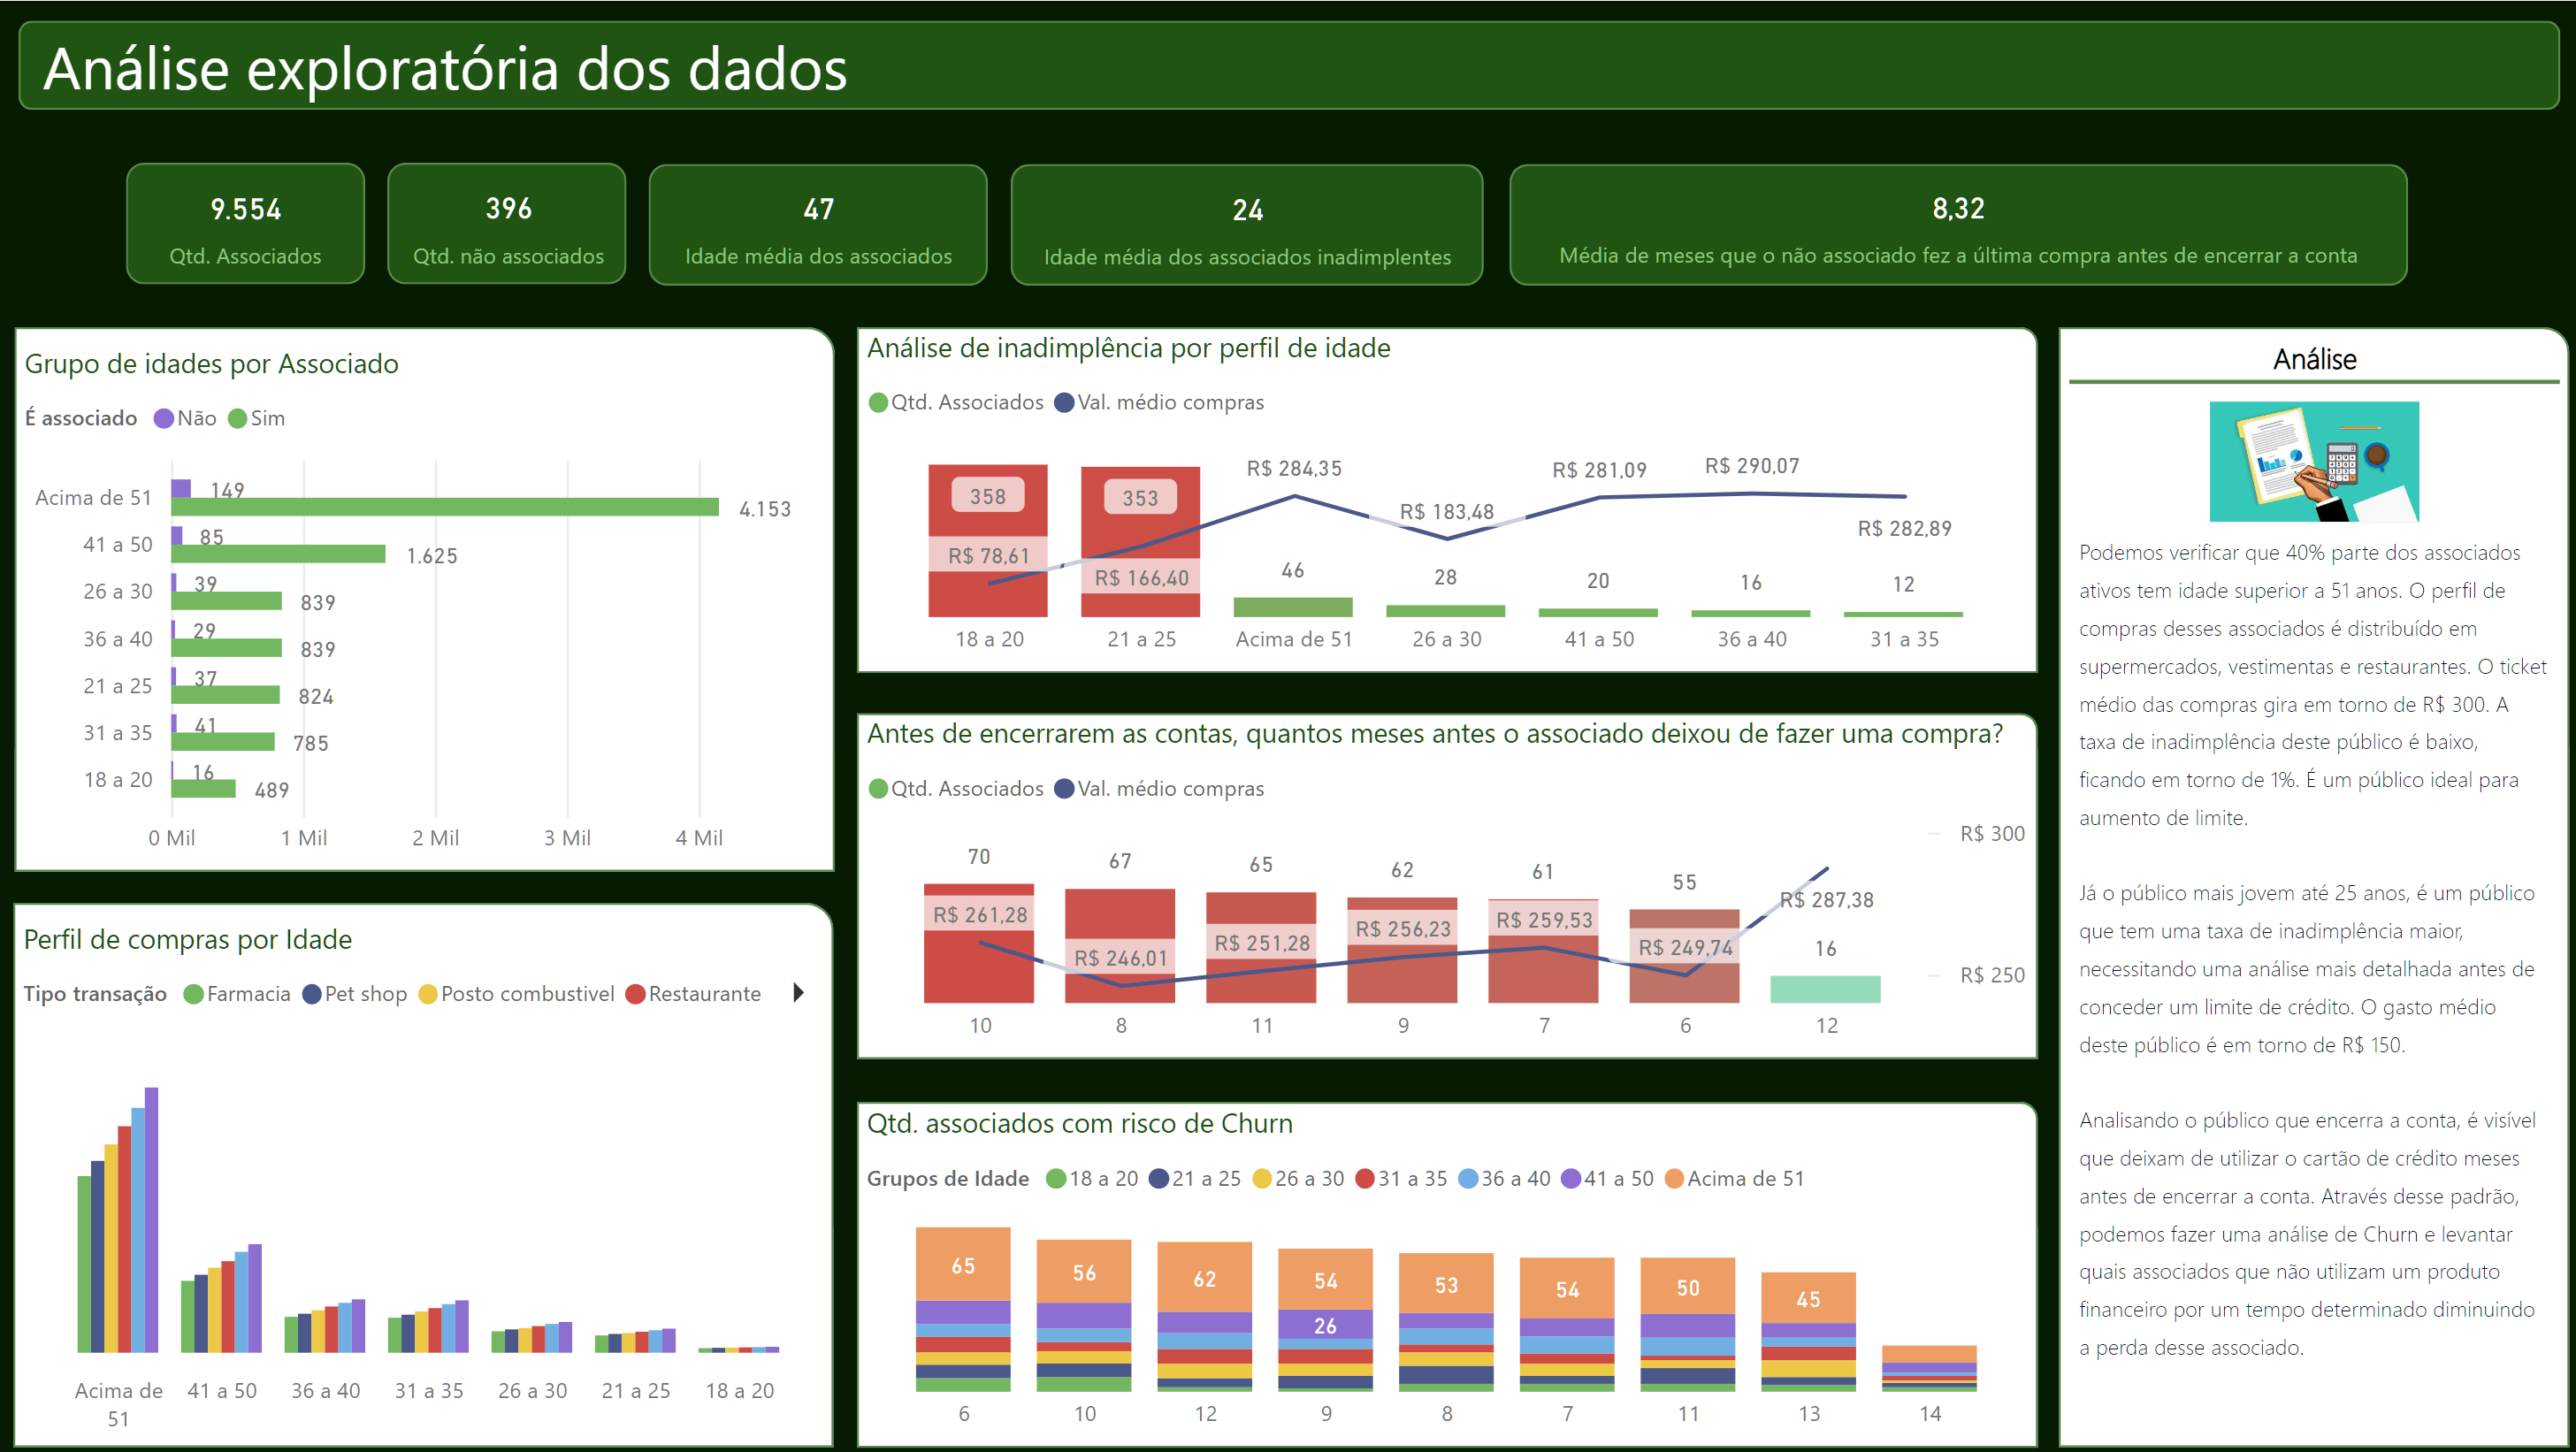

This screenshot's page, from the dashboard's own definition file:
{"tool":"powerbi","page":{"name":"Geral","canvas":[1280,720],"ordinal":0},"visuals":[{"type":"shape","box":[426.3,543.2,582.4,170.8],"z":0},{"type":"shape","box":[426.3,351.4,582.4,170.8],"z":1000},{"type":"shape","box":[426.3,161,582.4,170.8],"z":2000},{"type":"shape","box":[10.3,445.2,404.4,269],"z":3000},{"type":"shape","box":[10.9,161.2,404.4,269],"z":4000},{"type":"shape","box":[748.8,80.3,443,60.2],"z":5000},{"type":"shape","box":[502.8,80.3,233.6,60.2],"z":6000},{"type":"shape","box":[323.9,80.3,167.5,60.2],"z":7000},{"type":"shape","box":[66.1,79.6,117.8,60.2],"z":8000},{"type":"clusteredBarChart","title":"Grupo de idades por Associado","fields":{"Category":["associado_compras_fatura_inad.Idade (grupos)"],"Y":["associado_compras_fatura_inad.Qtd. Associados"],"Series":["associado_compras_fatura_inad.É associado"]},"box":[10.9,169.1,404.4,261.1],"z":9000},{"type":"card","fields":{"Values":["associado_compras_fatura_inad.Qtd. Associados"]},"box":[66.3,80.3,117.8,60.2],"z":10000},{"type":"card","fields":{"Values":["associado_compras_fatura_inad.Idade média"]},"box":[324.1,80.3,167.5,60.2],"z":11000},{"type":"clusteredColumnChart","title":"Perfil de compras por Idade","fields":{"Category":["associado_comportamento_compras.Grupos de Idade"],"Series":["associado_comportamento_compras.Tipo transação"],"Y":["Sum(associado_comportamento_compras.Val. total de compras)"]},"box":[10.3,453.1,404.4,261.1],"z":12000},{"type":"lineStackedColumnComboChart","title":"Análise de inadimplência por perfil de idade","fields":{"Category":["associado_compras_fatura_inad.Grupos de Idade"],"Y":["associado_compras_fatura_inad.Qtd. Associados"],"Y2":["Avg(associado_compras_fatura_inad.Val. médio compras)"]},"box":[426.3,161,582.4,170.8],"z":13000},{"type":"card","fields":{"Values":["associado_compras_fatura_inad.Idade média"]},"box":[502.8,80.9,233.6,59.6],"z":14000},{"type":"lineStackedColumnComboChart","title":"Antes de encerrarem as contas, quantos meses antes o associado deixou de fazer uma compra?","fields":{"Category":["associado_compras_fatura_inad.Qtd. meses que fez a última compra"],"Y":["associado_compras_fatura_inad.Qtd. Associados"],"Y2":["Avg(associado_compras_fatura_inad.Val. médio compras)"]},"box":[426.3,351.4,582.4,170.8],"z":15000},{"type":"card","fields":{"Values":["Avg(associado_compras_fatura_inad.Qtd. meses que fez a última compra)"]},"box":[748.8,79.6,443,60.2],"z":16000},{"type":"columnChart","title":"Qtd. associados com risco de Churn","fields":{"Category":["associado_compras_fatura_inad.Qtd. meses que fez a última compra"],"Y":["associado_compras_fatura_inad.Qtd. Associados"],"Series":["associado_compras_fatura_inad.Grupos de Idade"]},"box":[426.3,543.8,582.4,170.1],"z":17000},{"type":"shape","box":[195,79.6,117.8,60.2],"z":18000},{"type":"card","fields":{"Values":["associado_compras_fatura_inad.Qtd. Associados"]},"box":[195.2,80.3,119.8,59.6],"z":19000},{"type":"shape","box":[13.1,9.8,1253.8,43.8],"z":20000},{"type":"shape","box":[1019.6,161,251.9,553],"z":21000},{"type":"image","box":[1020.2,192.4,251.9,70],"z":21001},{"type":"textbox","box":[1058.2,161,176,31.4],"z":21002},{"type":"shape","box":[1024.8,180,242.1,15.7],"z":21003},{"type":"textbox","box":[1024.8,255.2,242.1,458.7],"z":21004}]}

Visuals, with their boxes in screenshot pixels (x1, y1, x2, y2), scaled from the page's 1280x720 canvas onto the 2576x1452 screenshot:
shape: {"left": 858, "top": 1096, "right": 2030, "bottom": 1440}
shape: {"left": 858, "top": 708, "right": 2030, "bottom": 1053}
shape: {"left": 858, "top": 325, "right": 2030, "bottom": 669}
shape: {"left": 20, "top": 898, "right": 835, "bottom": 1441}
shape: {"left": 22, "top": 325, "right": 836, "bottom": 867}
shape: {"left": 1507, "top": 162, "right": 2398, "bottom": 283}
shape: {"left": 1012, "top": 162, "right": 1482, "bottom": 283}
shape: {"left": 652, "top": 162, "right": 989, "bottom": 283}
shape: {"left": 133, "top": 161, "right": 371, "bottom": 282}
"Grupo de idades por Associado" clusteredBarChart: {"left": 22, "top": 341, "right": 836, "bottom": 867}
card - associado_compras_fatura_inad.Qtd. Associados: {"left": 134, "top": 162, "right": 371, "bottom": 283}
card - associado_compras_fatura_inad.Idade média: {"left": 653, "top": 162, "right": 990, "bottom": 283}
"Perfil de compras por Idade" clusteredColumnChart: {"left": 20, "top": 913, "right": 835, "bottom": 1441}
"Análise de inadimplência por perfil de idade" lineStackedColumnComboChart: {"left": 858, "top": 325, "right": 2030, "bottom": 669}
card - associado_compras_fatura_inad.Idade média: {"left": 1012, "top": 163, "right": 1482, "bottom": 283}
"Antes de encerrarem as contas, quantos meses antes o associado deixou de fazer uma compra?" lineStackedColumnComboChart: {"left": 858, "top": 708, "right": 2030, "bottom": 1053}
card - Avg(associado_compras_fatura_inad.Qtd. meses que fez a última compra): {"left": 1507, "top": 161, "right": 2398, "bottom": 282}
"Qtd. associados com risco de Churn" columnChart: {"left": 858, "top": 1097, "right": 2030, "bottom": 1440}
shape: {"left": 393, "top": 161, "right": 630, "bottom": 282}
card - associado_compras_fatura_inad.Qtd. Associados: {"left": 393, "top": 162, "right": 634, "bottom": 282}
shape: {"left": 27, "top": 19, "right": 2549, "bottom": 108}
shape: {"left": 2052, "top": 325, "right": 2559, "bottom": 1440}
image: {"left": 2053, "top": 388, "right": 2560, "bottom": 529}
textbox: {"left": 2129, "top": 325, "right": 2484, "bottom": 388}
shape: {"left": 2062, "top": 363, "right": 2549, "bottom": 394}
textbox: {"left": 2062, "top": 515, "right": 2549, "bottom": 1440}
